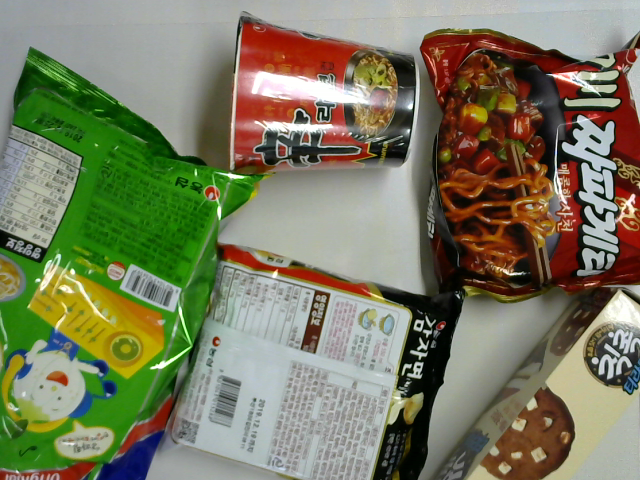Chicchok_Tiramisu: (425, 285, 640, 478)
Oninon_Ring: (1, 42, 275, 479)
Potato: (162, 238, 467, 480)
Sichuan_Chapaghetti: (418, 25, 640, 300)
Sinramen_small: (216, 8, 421, 175)
